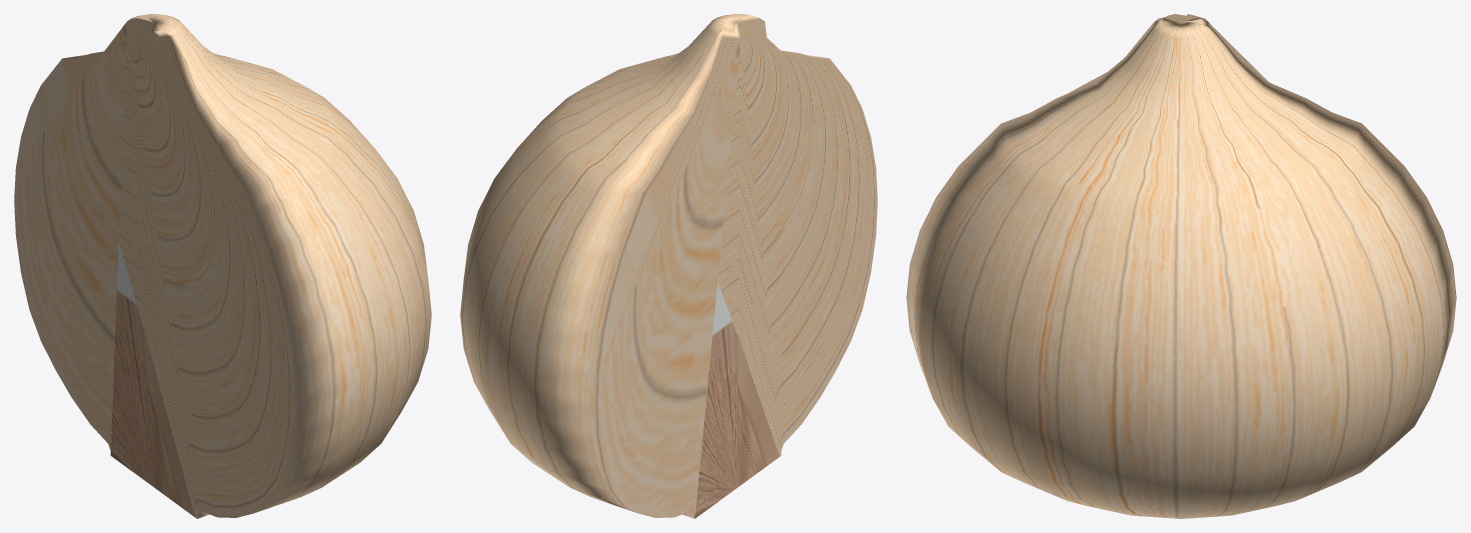
The model's file is OnionHalf.fbx.
3 views of the same model, side by side, from view 1: azimuth 30°, elevation 25°; view 2: azimuth 150°, elevation 25°; view 3: azimuth 270°, elevation 25° (orthographic).
Parts seen in each view (by area): view 1: pSphere1; view 2: pSphere1; view 3: pSphere1.
Boxes of the visible parts, <box> form: pSphere1: <box>14,14,431,518</box>; pSphere1: <box>460,14,877,518</box>; pSphere1: <box>906,14,1456,518</box>.
Size of the model in its own units: 1.07 by 1.83 by 2.
